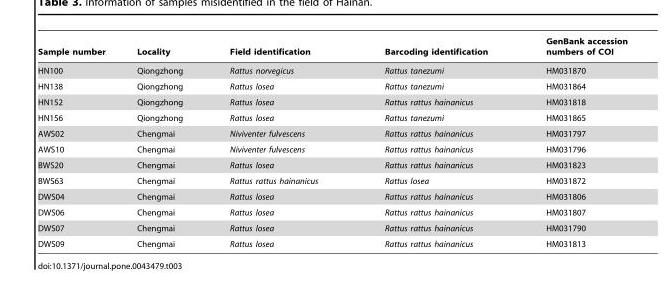table: (36, 36, 626, 248)
table column: (350, 36, 516, 248), (205, 36, 350, 248), (516, 36, 626, 248), (120, 36, 205, 248), (36, 36, 120, 248)
table column header: (36, 36, 626, 61)
table row: (36, 36, 626, 61), (36, 61, 626, 78), (36, 78, 626, 94), (36, 109, 626, 125), (36, 125, 626, 141), (36, 141, 626, 157), (36, 172, 626, 188), (36, 188, 626, 204), (36, 204, 626, 220), (36, 94, 626, 109), (36, 157, 626, 172), (36, 220, 626, 235), (36, 235, 626, 248)
